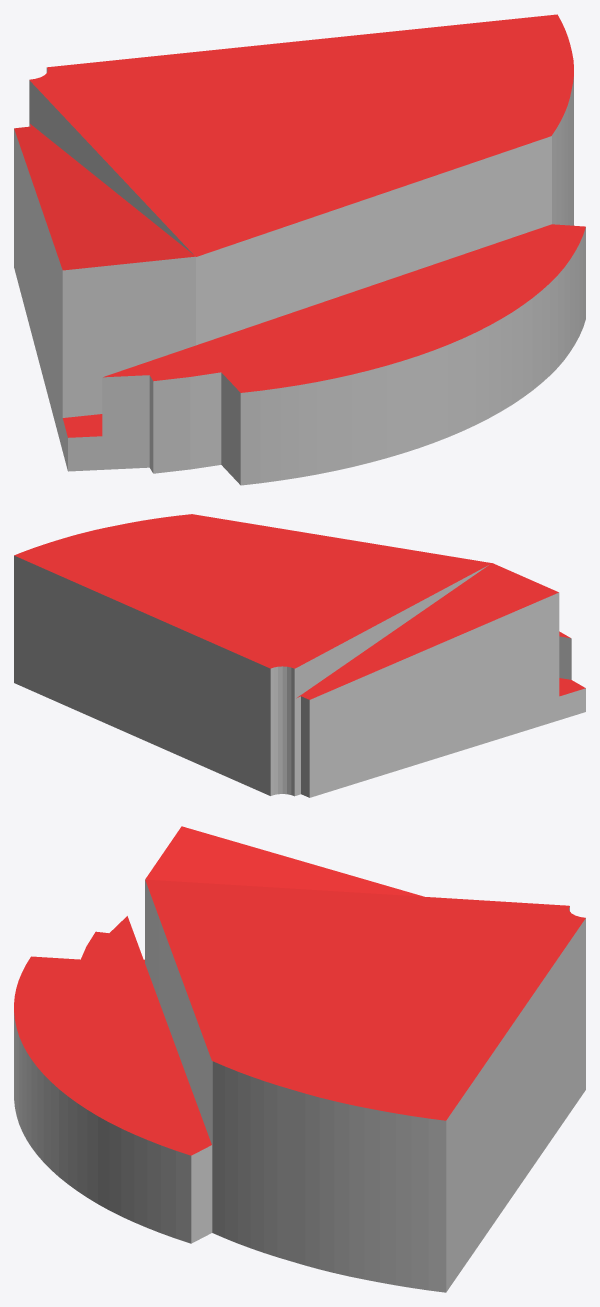
Rendered from DEBY_LOD2_4906975.dae.
3 renders of one model, top to bottom at view 1: azimuth 30°, elevation 25°; view 2: azimuth 150°, elevation 25°; view 3: azimuth 270°, elevation 25°, orthographic. The views are drawn at different scales.
Bounding box in the file's own units: 59.19 × 47.42 × 15.77.
